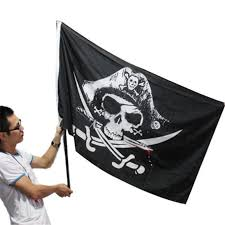Jolly Roger Flag: (55, 18, 224, 205)
